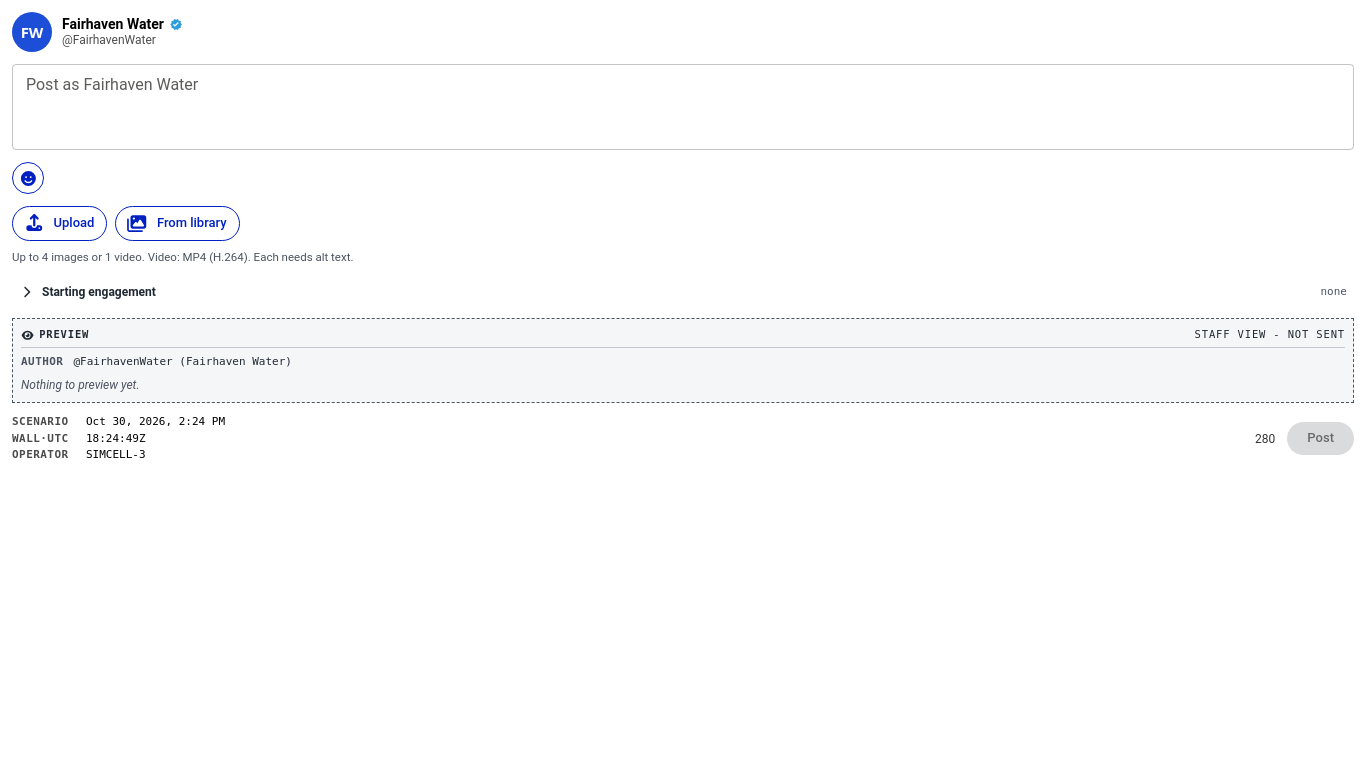
Test: PersonaComposer (live) — a post that MAY ALREADY BE LIVE (status unknown) › is titled "Post status unknown" (not "failed"), says why, and offers NO plain Retry
Type "Boil-water order lifted for Zones 2-4." into the text box labelled "Post as Fairhaven Water" at (683, 107), box [26, 72, 1340, 142]
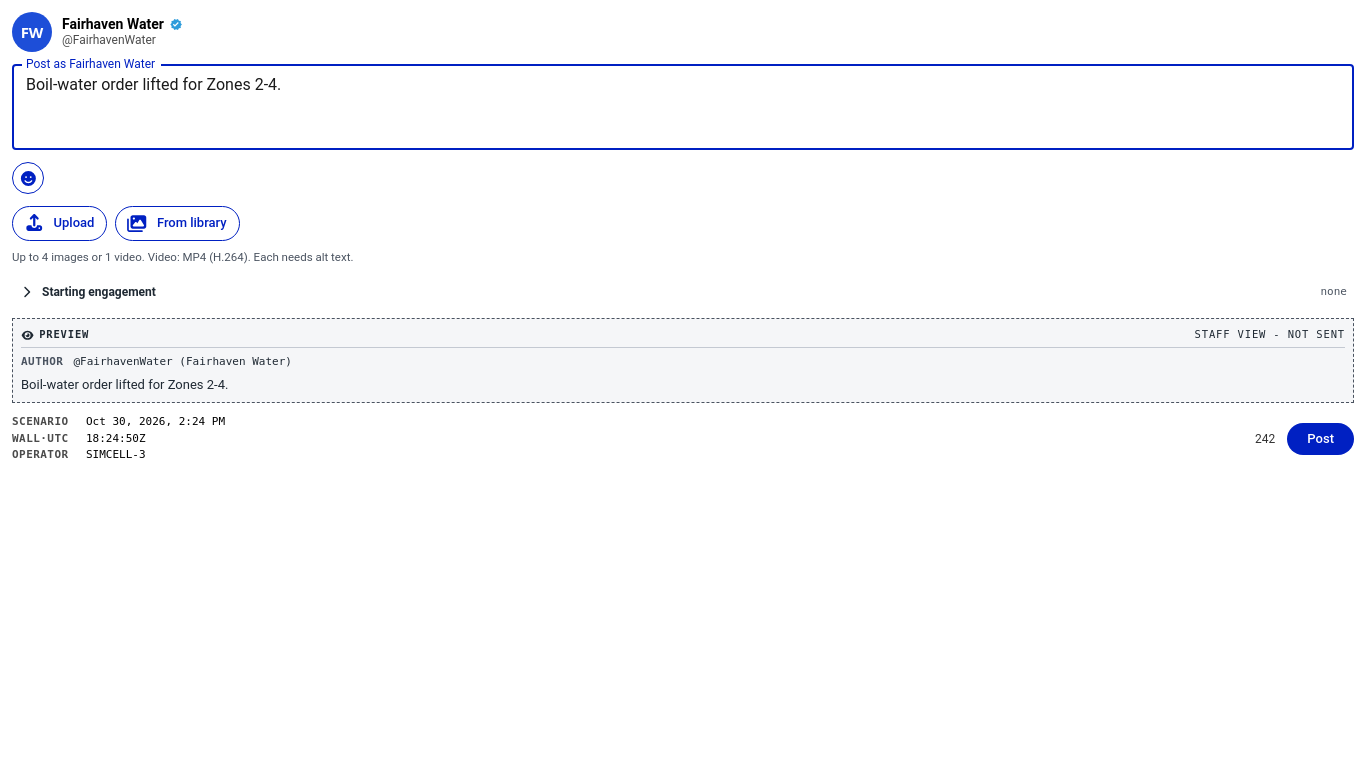
Click the button "Post" at (1321, 439), box [1287, 422, 1354, 455]
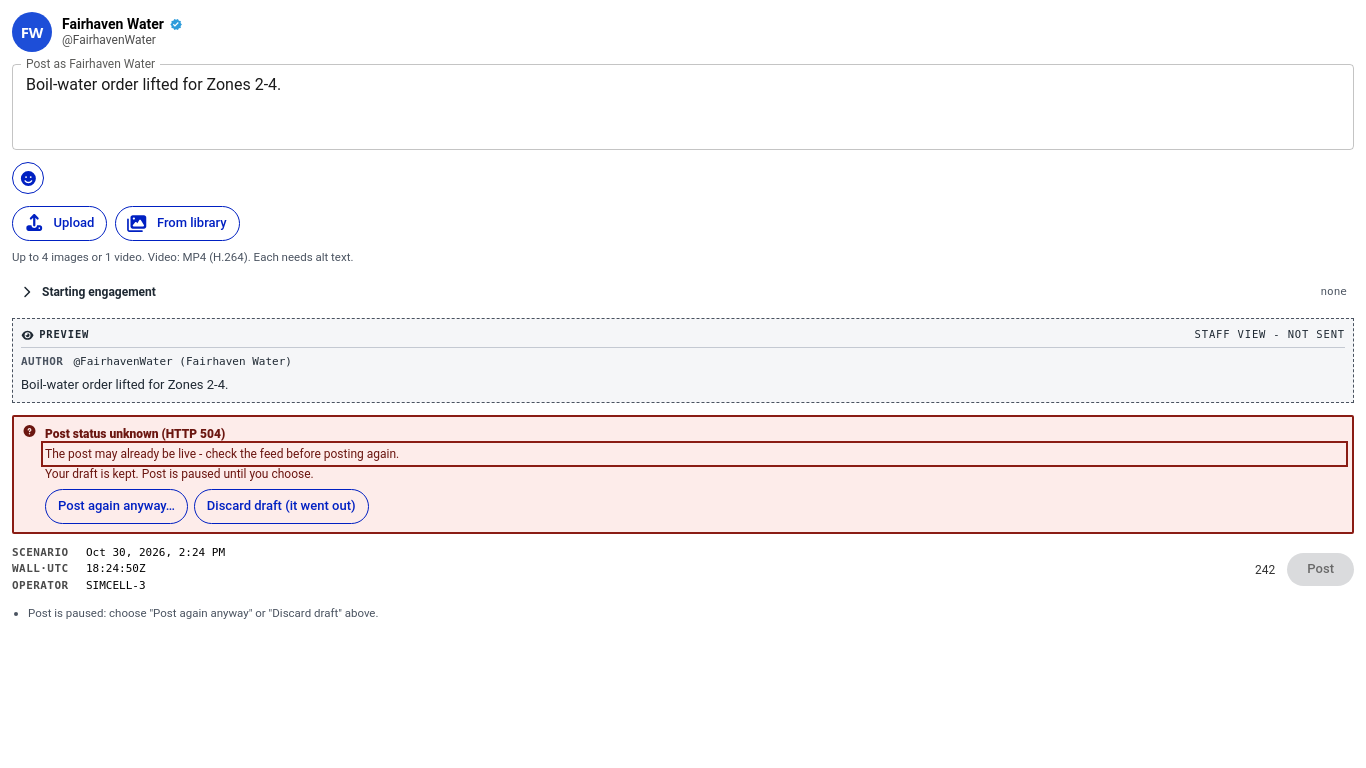
Now the message with test id "publish-unconfirmed" shows "Post status unknown (HTTP 504)", box [12, 415, 1354, 534]
Now the message with test id "publish-unconfirmed" shows "The post may already be live - check the feed", box [45, 447, 399, 461]
Now the button "Post again anyway…" is enabled, box [45, 489, 188, 524]
